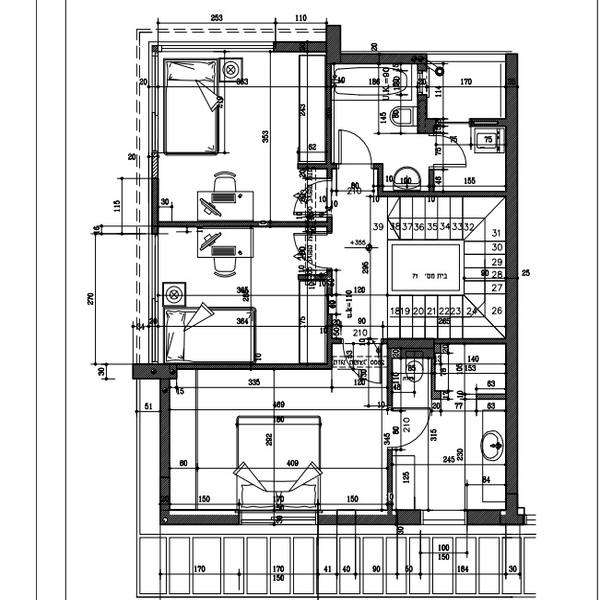door: (383, 398, 431, 450), (287, 225, 340, 269), (288, 176, 335, 214), (338, 123, 375, 171), (430, 129, 472, 169)
room: (155, 360, 399, 530), (149, 43, 333, 231), (324, 190, 517, 347), (325, 50, 521, 197), (147, 217, 332, 367), (382, 334, 523, 526)
wall: (506, 54, 518, 523), (160, 368, 172, 524), (324, 43, 336, 172), (327, 50, 425, 64), (377, 188, 507, 198), (160, 514, 237, 530), (137, 364, 330, 369), (153, 223, 328, 227), (396, 506, 423, 526), (466, 510, 496, 525), (386, 341, 430, 349)
window: (240, 510, 317, 530)
